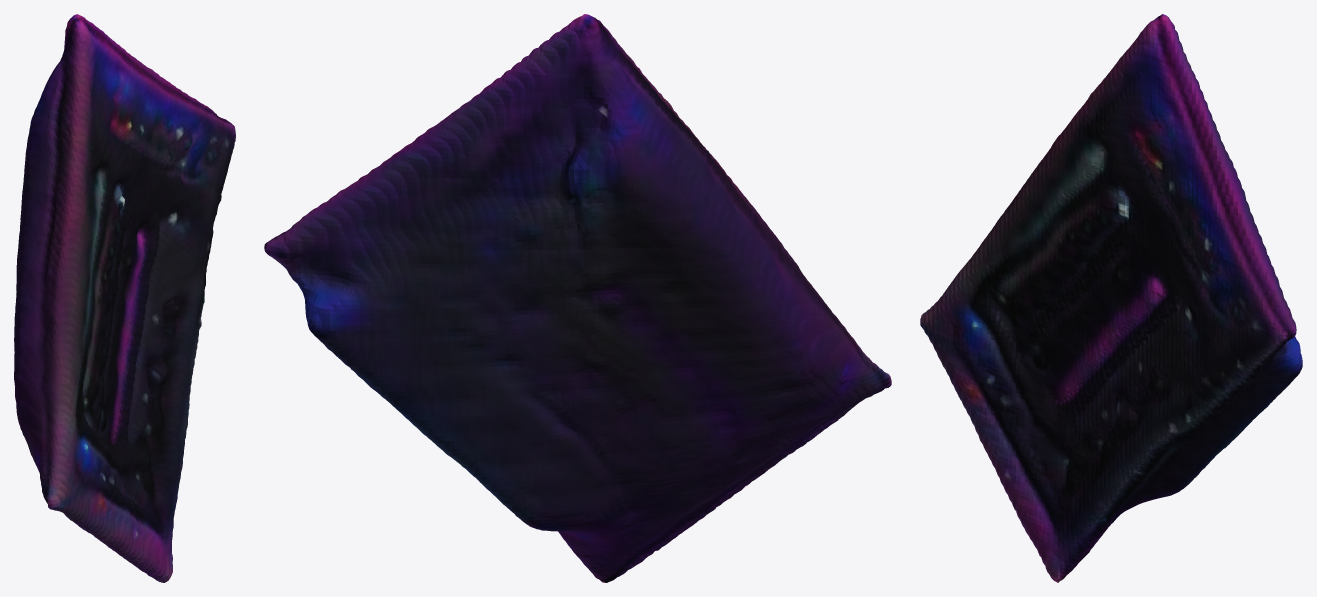
3 views of the same model, side by side, from view 1: azimuth 30°, elevation 25°; view 2: azimuth 150°, elevation 25°; view 3: azimuth 270°, elevation 25° (orthographic). The views are drawn at different scales.
Size of the model in its own units: 0.6991 by 0.9869 by 0.6238.
